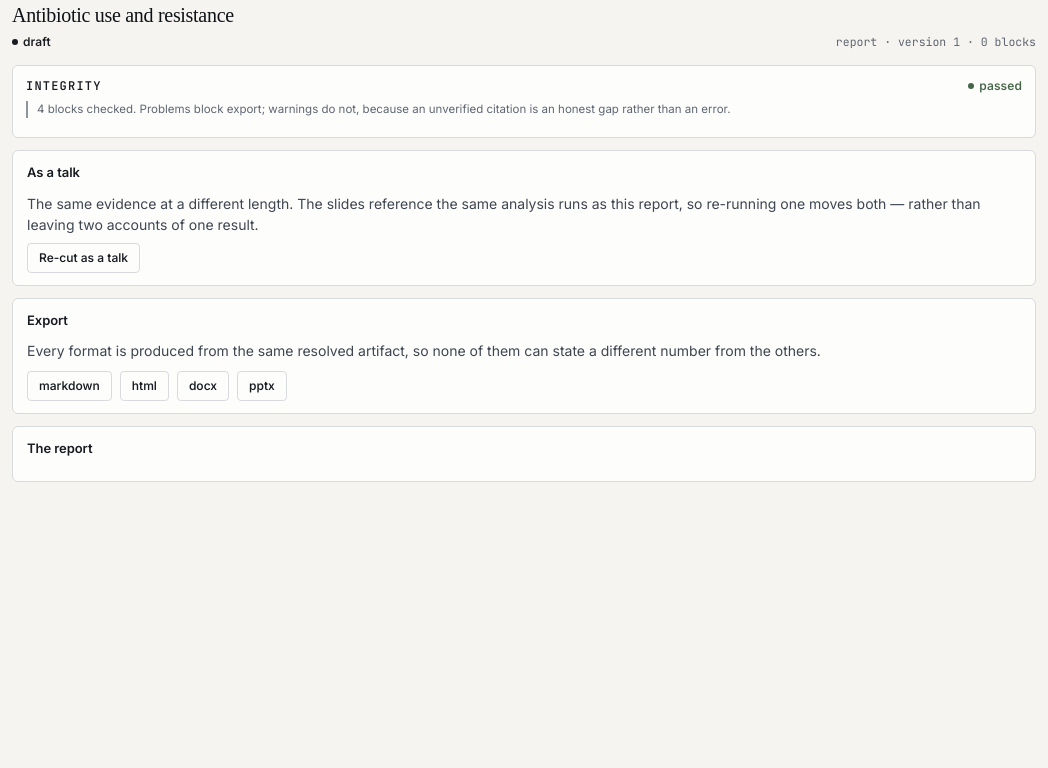
Scenario: re-cutting a report › shows what the server said when it refuses
The image size is (1048, 768).
Click the button "Re-cut as a talk" at [84, 258], box [27,243,140,273]
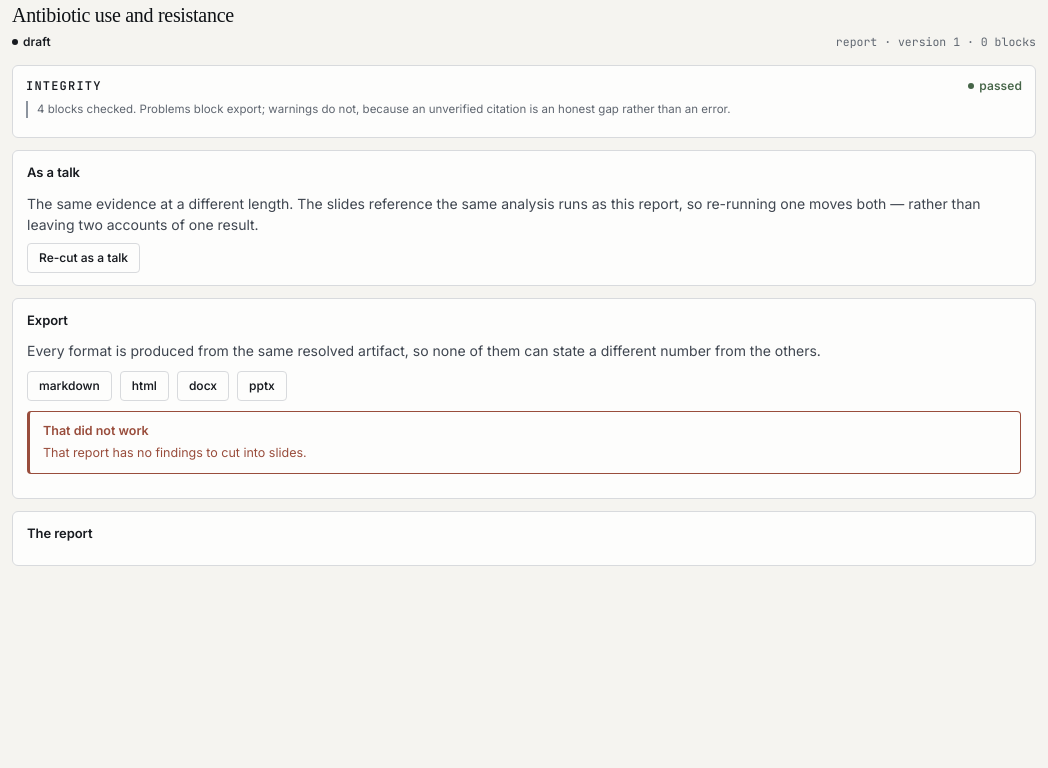
Check: the text "That report has no findings to cut into slides." is shown, box [43,445,307,460]
